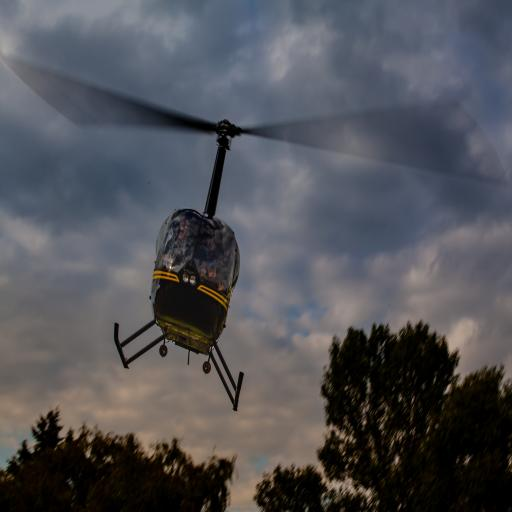helicopter: (1, 56, 403, 415)
